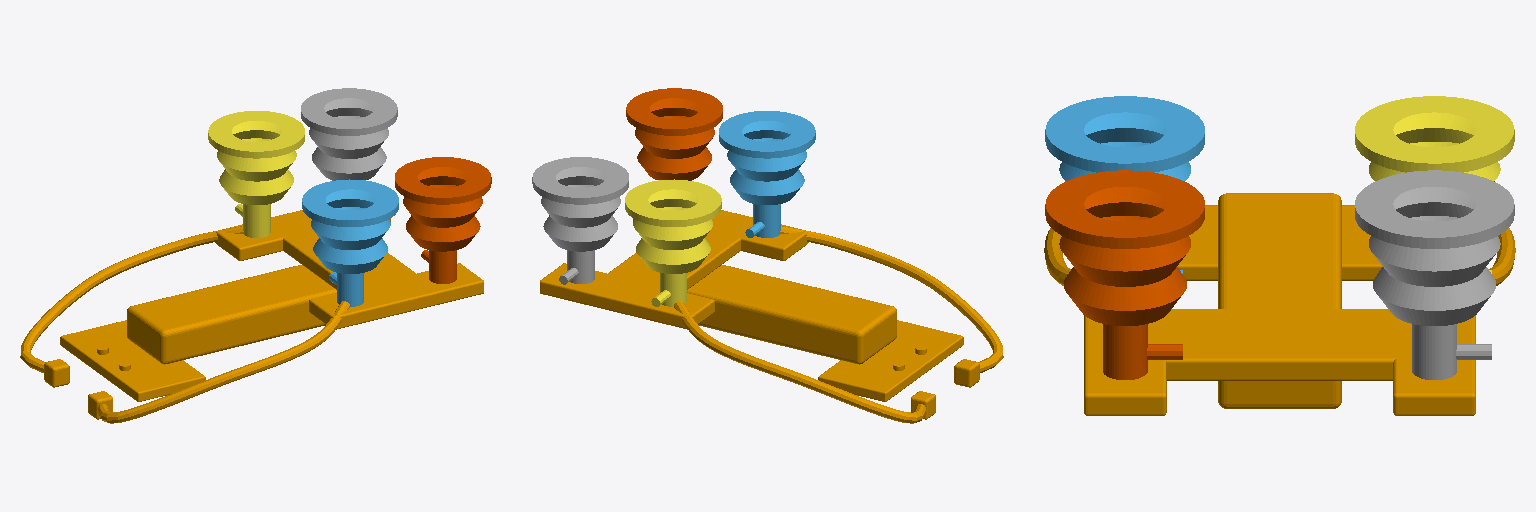
robot.urdf — robotiq_powerpick10_default:
<?xml version="1.0"?>
<robot name="robotiq_powerpick10_default">
<link name="mount"><visual ><geometry ><mesh filename="../meshes/mount.obj"/></geometry></visual><collision ><origin xyz="0 0 0.00442" rpy="0 0 0"/><geometry ><box size="0.063 0.125 0.00884"/></geometry></collision><collision ><origin xyz="0.105 0 0.02384" rpy="0 0 0"/><geometry ><box size="0.19 0.06 0.03"/></geometry></collision><collision ><origin xyz="0.2 0 0.04484" rpy="0 0 0"/><geometry ><box size="0.14 0.19 0.012"/></geometry></collision><collision ><origin xyz="-0.05 0.035 -0.0088" rpy="0 0 0"/><geometry ><box size="0.016 0.016 0.0176"/></geometry></collision><collision ><origin xyz="-0.05 -0.035 -0.0088" rpy="0 0 0"/><geometry ><box size="0.016 0.016 0.0176"/></geometry></collision></link>
<link name="cup_1"><visual ><geometry ><mesh filename="../meshes/cup_1.obj"/></geometry></visual><collision ><origin xyz="0 0 0.015" rpy="0 0 0"/><geometry ><cylinder radius="0.011" length="0.03"/></geometry></collision><collision ><origin xyz="0 0 0.05958" rpy="0 0 0"/><geometry ><cylinder radius="0.03875" length="0.05916000000000002"/></geometry></collision></link>
<link name="cup_1_contact"></link>
<link name="cup_2"><visual ><geometry ><mesh filename="../meshes/cup_2.obj"/></geometry></visual><collision ><origin xyz="0 0 0.015" rpy="0 0 0"/><geometry ><cylinder radius="0.011" length="0.03"/></geometry></collision><collision ><origin xyz="0 0 0.05958" rpy="0 0 0"/><geometry ><cylinder radius="0.03875" length="0.05916000000000002"/></geometry></collision></link>
<link name="cup_2_contact"></link>
<link name="cup_3"><visual ><geometry ><mesh filename="../meshes/cup_3.obj"/></geometry></visual><collision ><origin xyz="0 0 0.015" rpy="0 0 0"/><geometry ><cylinder radius="0.011" length="0.03"/></geometry></collision><collision ><origin xyz="0 0 0.05958" rpy="0 0 0"/><geometry ><cylinder radius="0.03875" length="0.05916000000000002"/></geometry></collision></link>
<link name="cup_3_contact"></link>
<link name="cup_4"><visual ><geometry ><mesh filename="../meshes/cup_4.obj"/></geometry></visual><collision ><origin xyz="0 0 0.015" rpy="0 0 0"/><geometry ><cylinder radius="0.011" length="0.03"/></geometry></collision><collision ><origin xyz="0 0 0.05958" rpy="0 0 0"/><geometry ><cylinder radius="0.03875" length="0.05916000000000002"/></geometry></collision></link>
<link name="cup_4_contact"></link>
<link name="tcp"></link>
<joint name="cup_1_joint" type="fixed"><parent link="mount"/><child link="cup_1"/><origin xyz="0.1574 -0.075 0.05084" rpy="0 0 0"/></joint>
<joint name="cup_1_contact_joint" type="fixed"><parent link="cup_1"/><child link="cup_1_contact"/><origin xyz="0 0 0.08916" rpy="0 0 0"/></joint>
<joint name="cup_2_joint" type="fixed"><parent link="mount"/><child link="cup_2"/><origin xyz="0.1574 0.075 0.05084" rpy="0 0 0"/></joint>
<joint name="cup_2_contact_joint" type="fixed"><parent link="cup_2"/><child link="cup_2_contact"/><origin xyz="0 0 0.08916" rpy="0 0 0"/></joint>
<joint name="cup_3_joint" type="fixed"><parent link="mount"/><child link="cup_3"/><origin xyz="0.2426 -0.075 0.05084" rpy="0 0 0"/></joint>
<joint name="cup_3_contact_joint" type="fixed"><parent link="cup_3"/><child link="cup_3_contact"/><origin xyz="0 0 0.08916" rpy="0 0 0"/></joint>
<joint name="cup_4_joint" type="fixed"><parent link="mount"/><child link="cup_4"/><origin xyz="0.2426 0.075 0.05084" rpy="0 0 0"/></joint>
<joint name="cup_4_contact_joint" type="fixed"><parent link="cup_4"/><child link="cup_4_contact"/><origin xyz="0 0 0.08916" rpy="0 0 0"/></joint>
<joint name="tcp_joint" type="fixed"><parent link="mount"/><child link="tcp"/><origin xyz="0.2 0 0.14" rpy="0 0 0"/></joint>
</robot>

--- Render facts (derived) ---
3 views of the same robot in one strip: view 1: azimuth 30°, elevation 25°; view 2: azimuth 150°, elevation 25°; view 3: azimuth 270°, elevation 25° (orthographic).
Robot: robotiq_powerpick10_default — 10 links, 9 joints (9 fixed); root link mount; default pose: every joint at zero.
Links seen in each view (by area): view 1: mount, cup_2, cup_3, cup_1, cup_4; view 2: mount, cup_1, cup_4, cup_2, cup_3; view 3: mount, cup_3, cup_4, cup_1, cup_2.
Link boxes in pixels (bbox=[...]): mount: bbox=[20, 210, 483, 423]; cup_2: bbox=[208, 111, 304, 237]; cup_3: bbox=[395, 157, 491, 283]; cup_1: bbox=[302, 179, 398, 306]; cup_4: bbox=[301, 88, 397, 180]; mount: bbox=[540, 210, 1003, 423]; cup_1: bbox=[719, 111, 815, 237]; cup_4: bbox=[532, 157, 628, 284]; cup_2: bbox=[625, 179, 721, 306]; cup_3: bbox=[626, 88, 722, 180]; mount: bbox=[1044, 193, 1515, 415]; cup_3: bbox=[1045, 170, 1204, 379]; cup_4: bbox=[1355, 170, 1514, 379]; cup_1: bbox=[1045, 96, 1204, 273]; cup_2: bbox=[1355, 96, 1514, 273].
Size in the robot's own frame: 0.3453 by 0.2284 by 0.1576 metres.
5 mesh visuals loaded from 5 distinct referenced files (5 OBJ).
